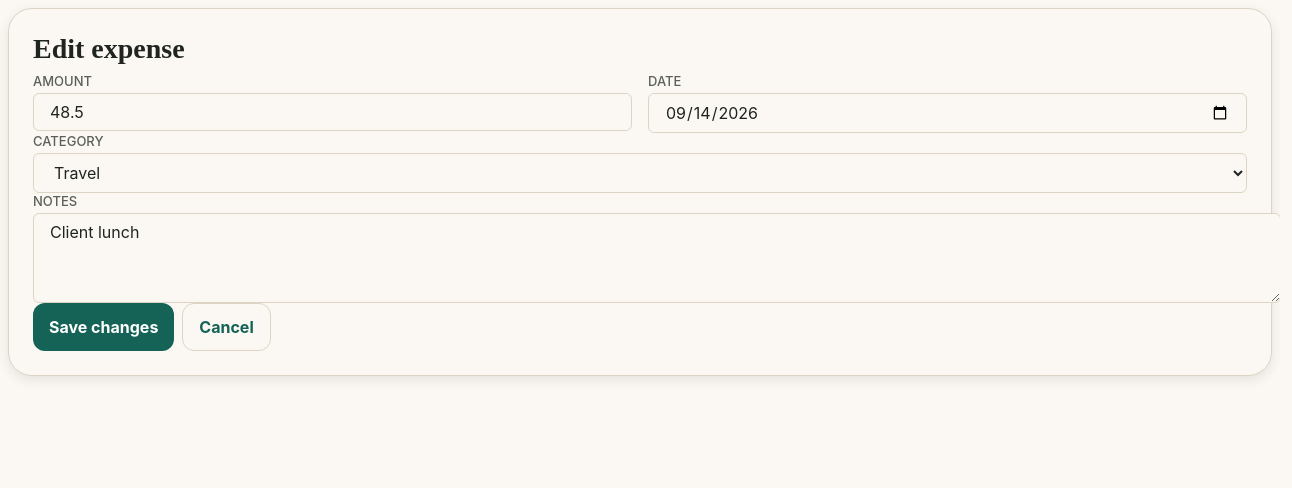
it: EditExpenseForm › shows a not-found error then redirects when the expense was deleted (AC10, AC11)
Click the button "Save changes": (104, 327) [33,303,174,351]
Wait 2000 ms
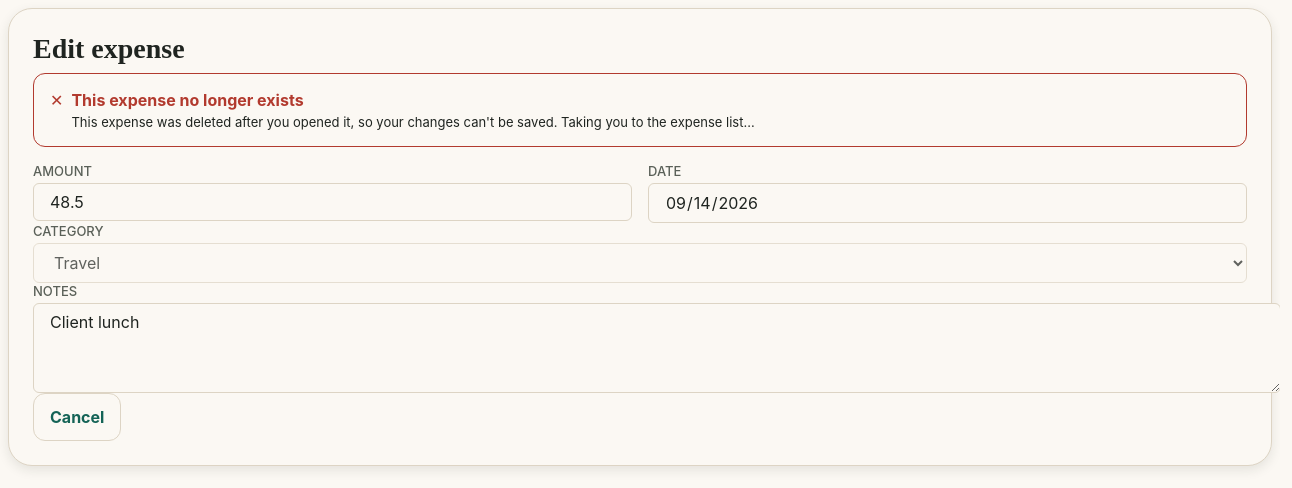
Check: the text "This expense no longer exists" is shown, box [71,90,304,110]
